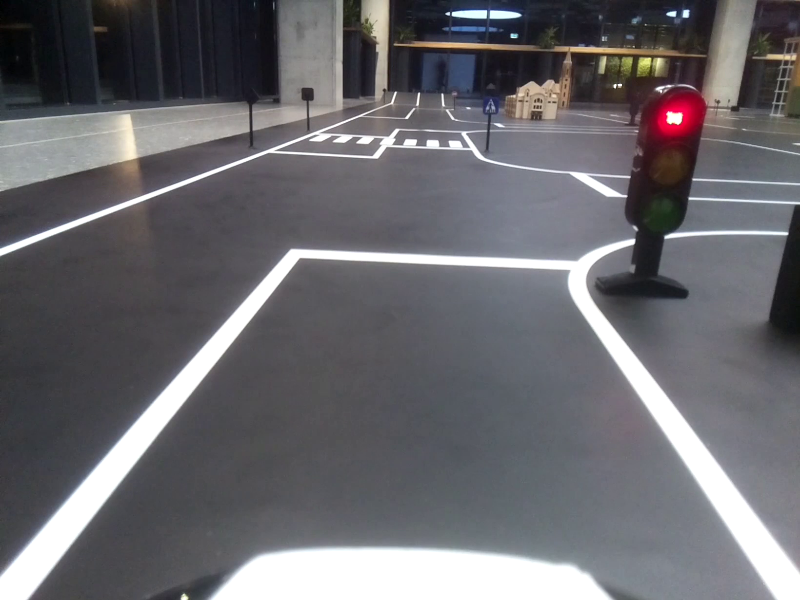traffic_red: (629, 85, 708, 238)
